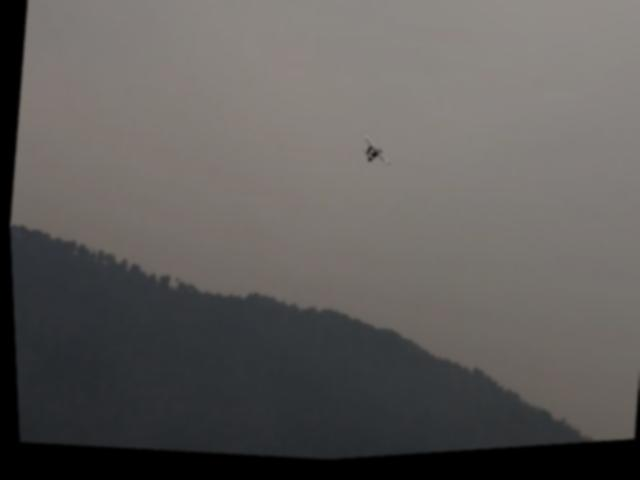plane: (356, 140, 392, 173)
